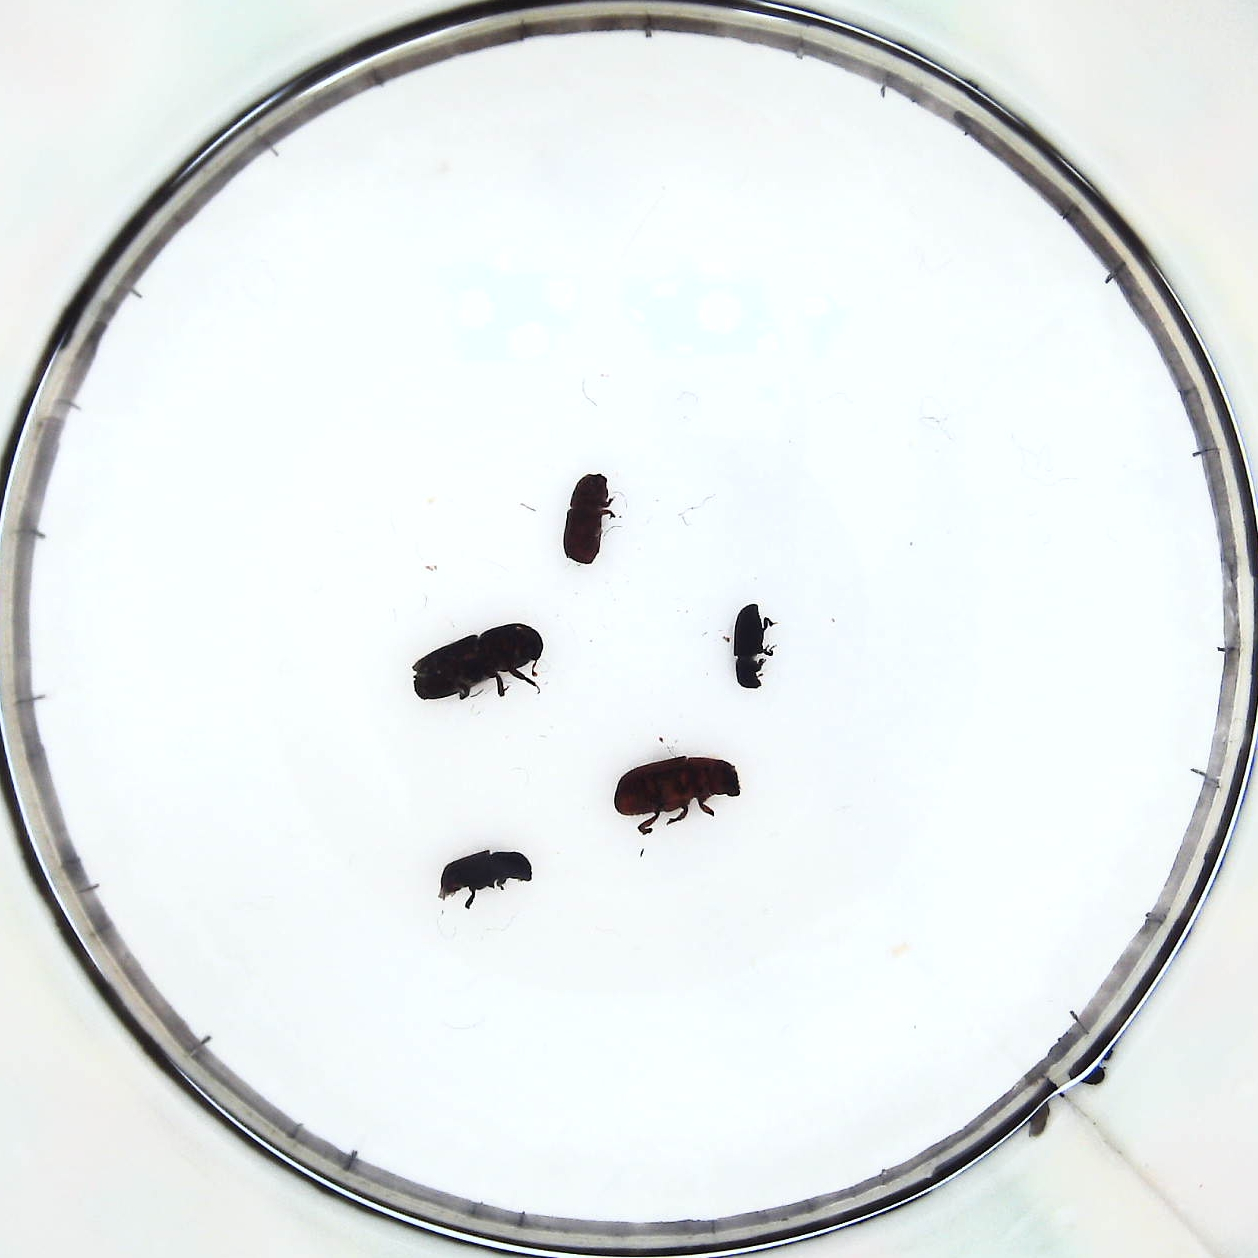Boerner: (406, 624, 544, 700)
Leconte: (617, 755, 738, 823)
Linnaeus: (445, 844, 539, 902)
armandi: (562, 472, 615, 569)
coleoptera: (726, 603, 776, 690)
